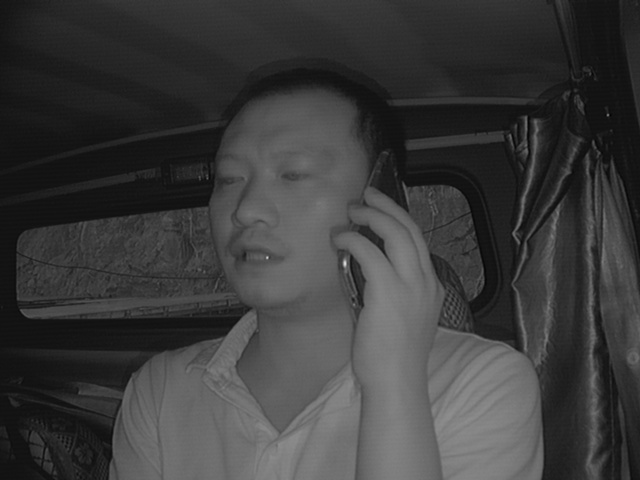hand: (333, 188, 456, 389)
